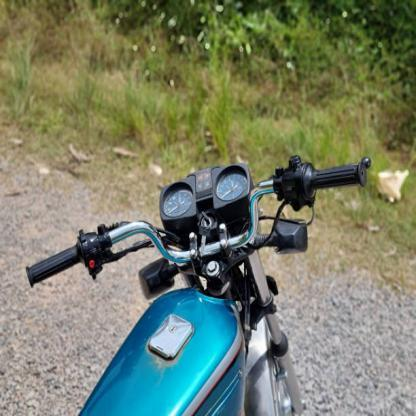Motorcycle: (22, 146, 374, 415)
